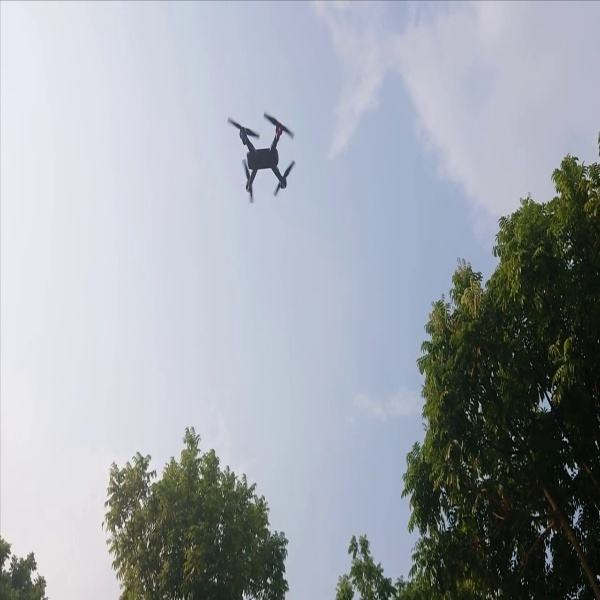drone: (225, 105, 301, 203)
